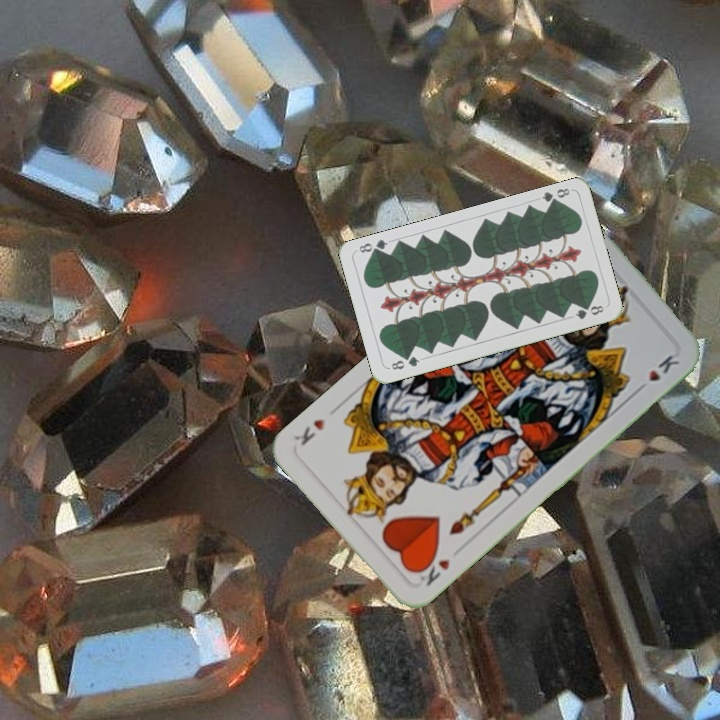G8: (537, 184, 574, 208), (385, 352, 422, 372)
HK: (409, 551, 453, 589)
